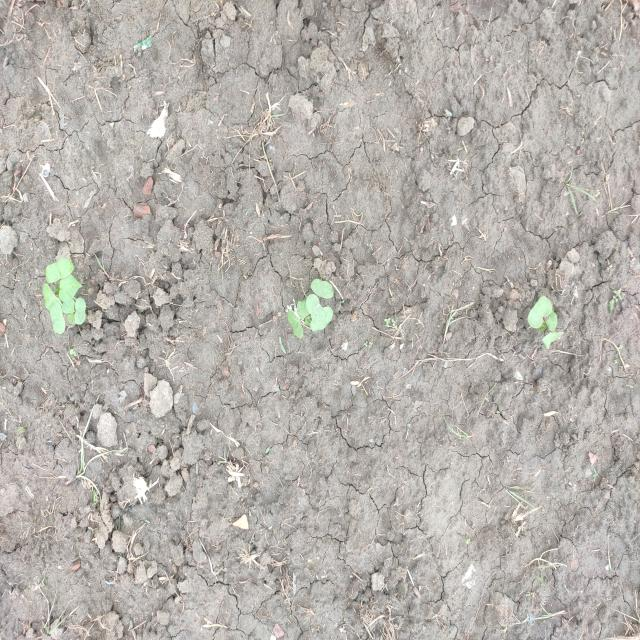seedling: (527, 296, 552, 328), (45, 258, 74, 283), (59, 274, 83, 301), (306, 294, 325, 325), (42, 283, 62, 312), (311, 307, 333, 331), (50, 301, 65, 334), (310, 279, 333, 299), (287, 310, 303, 338), (542, 332, 564, 349), (74, 298, 86, 325), (545, 310, 557, 332), (296, 300, 309, 319), (62, 298, 75, 313)
